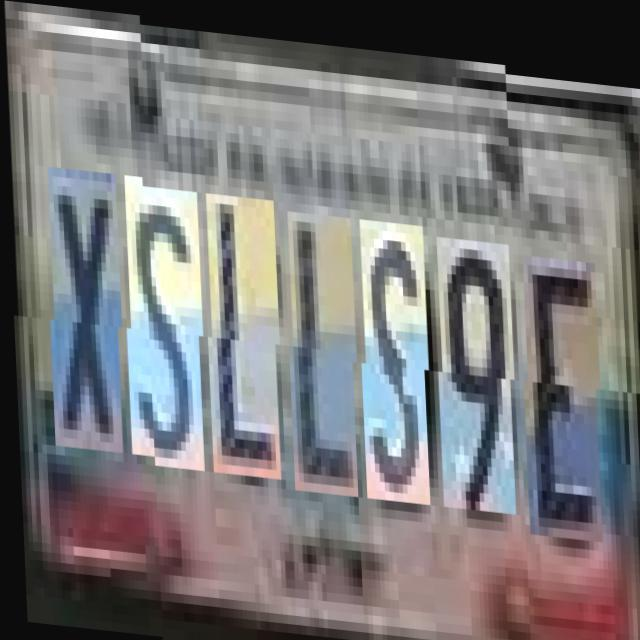9: (435, 226, 516, 504)
E: (520, 234, 602, 520)
L: (204, 189, 282, 474), (286, 205, 358, 490)
S: (123, 182, 205, 468), (358, 211, 430, 496)
X: (47, 175, 124, 460)
